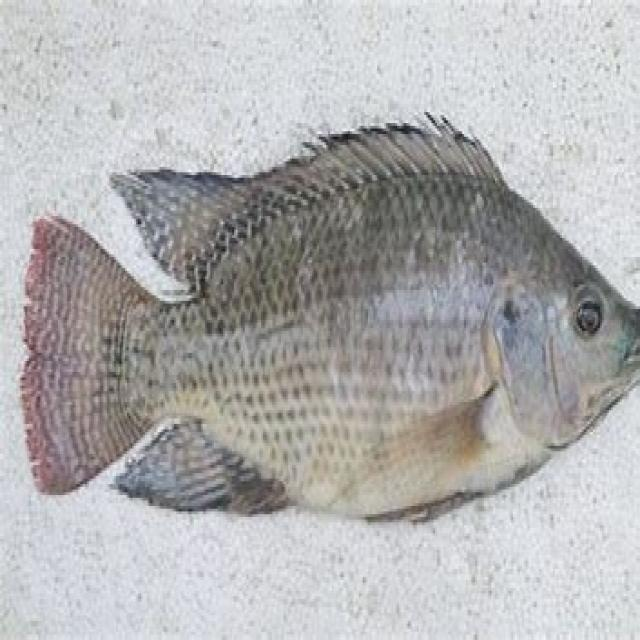Tilapia: (20, 113, 638, 526)
